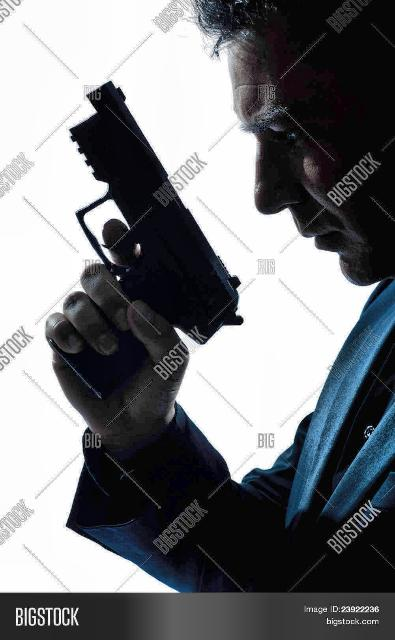pistol: (57, 81, 244, 416)
